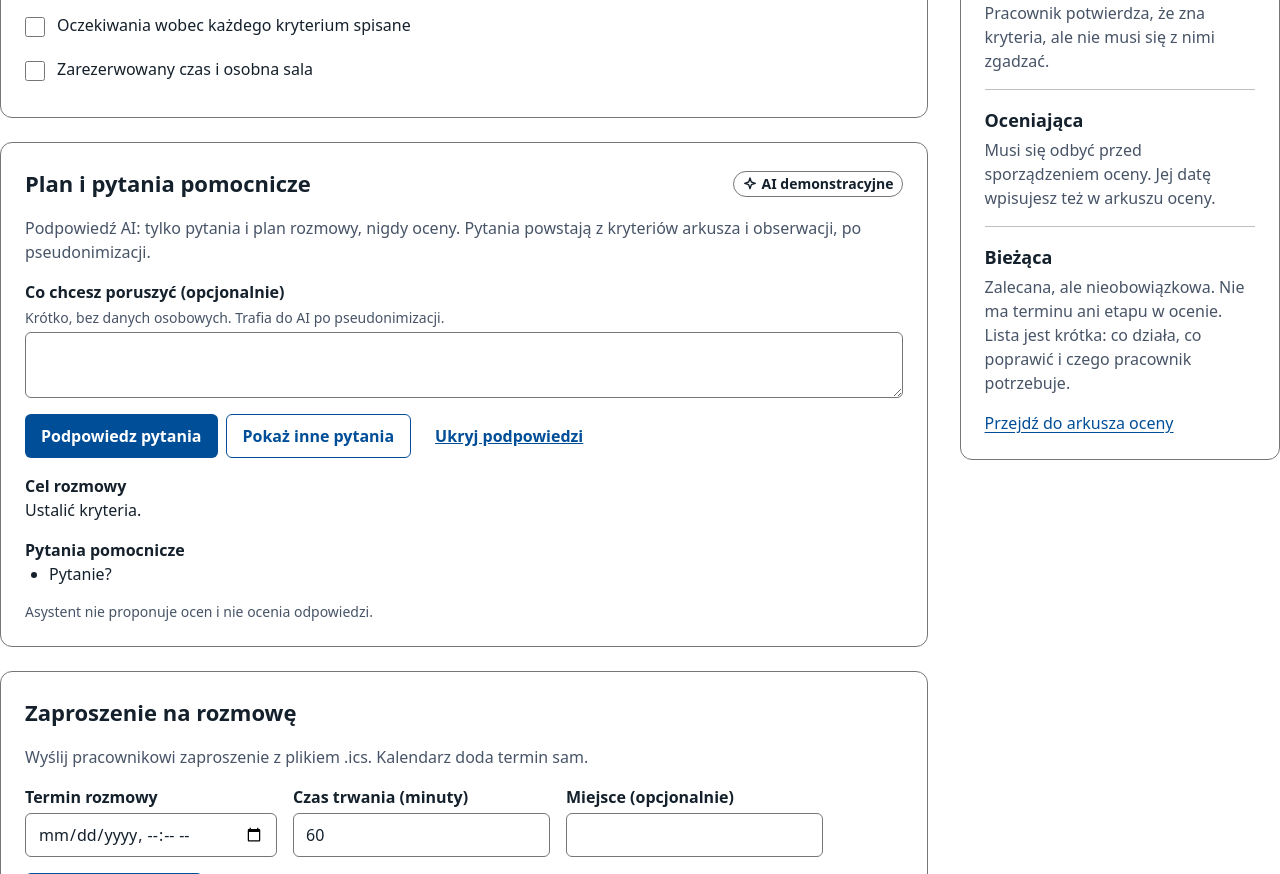
Test: ConversationPage › shows the extra criteria the AI suggests at an opening conversation
(page scrolled)
Click the button "Podpowiedz pytania": (121, 436) top-left (25, 414), bottom-right (218, 458)
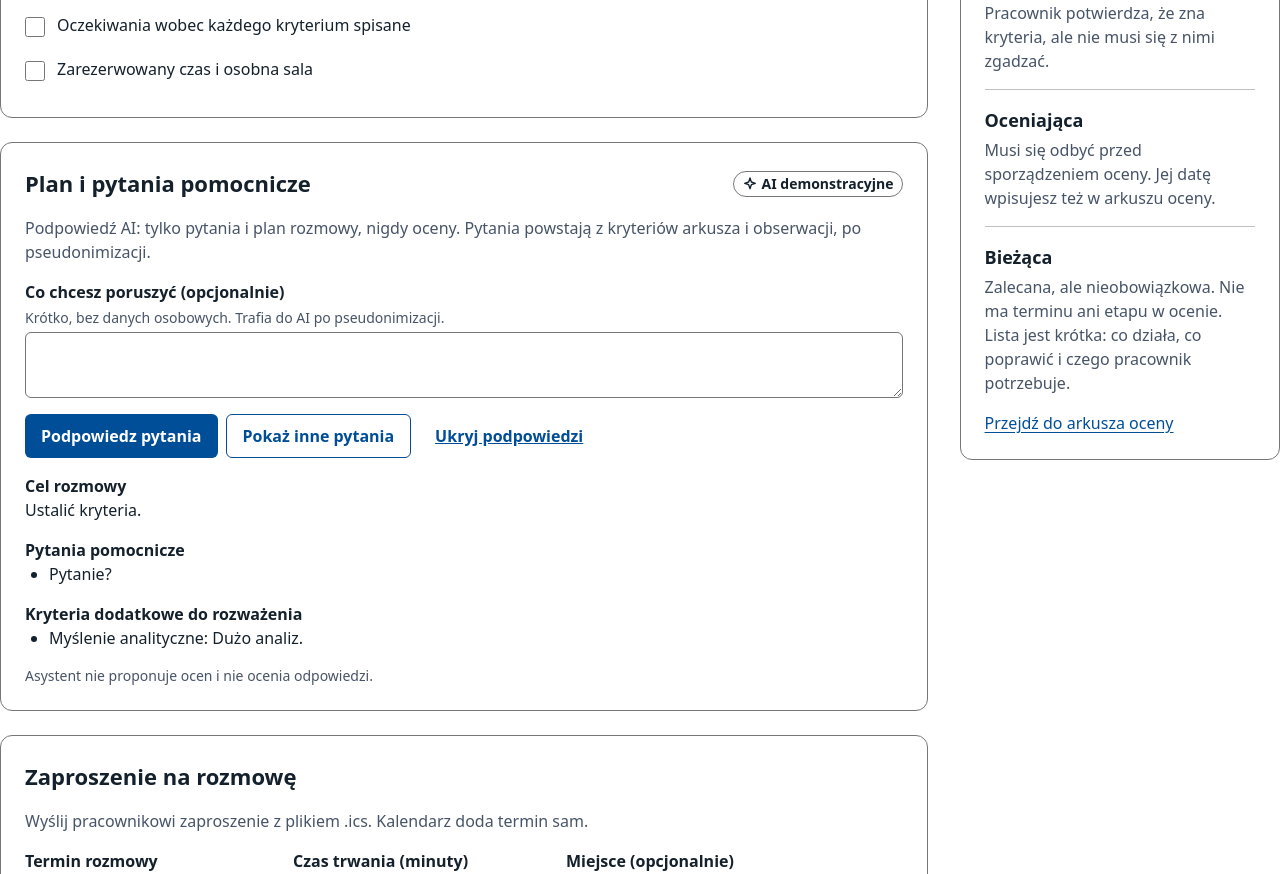
Expected: the list item "Myślenie analityczne: Dużo analiz." is shown, top-left (49, 627), bottom-right (303, 649)
